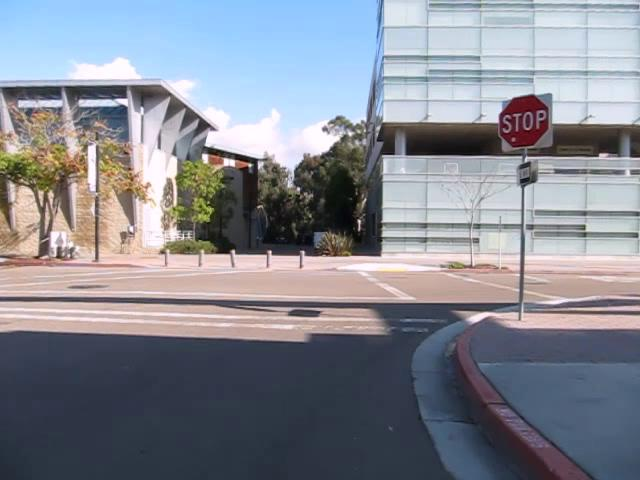stop: (498, 93, 550, 149)
